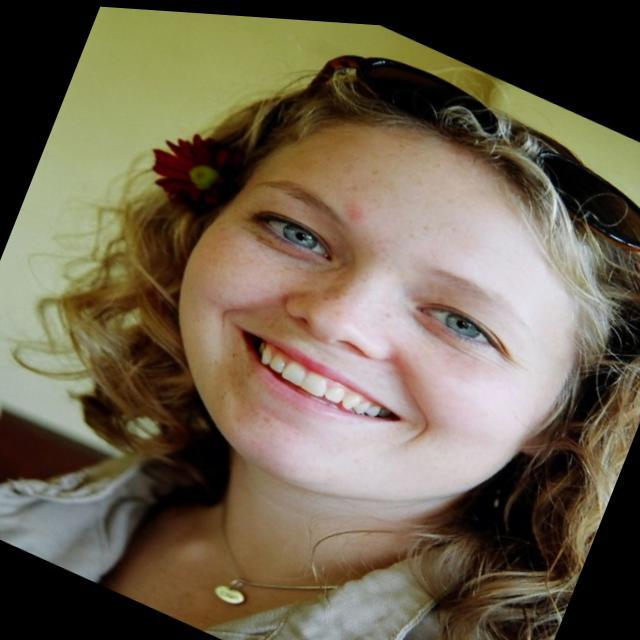Nonhelmet: (116, 47, 616, 508)
